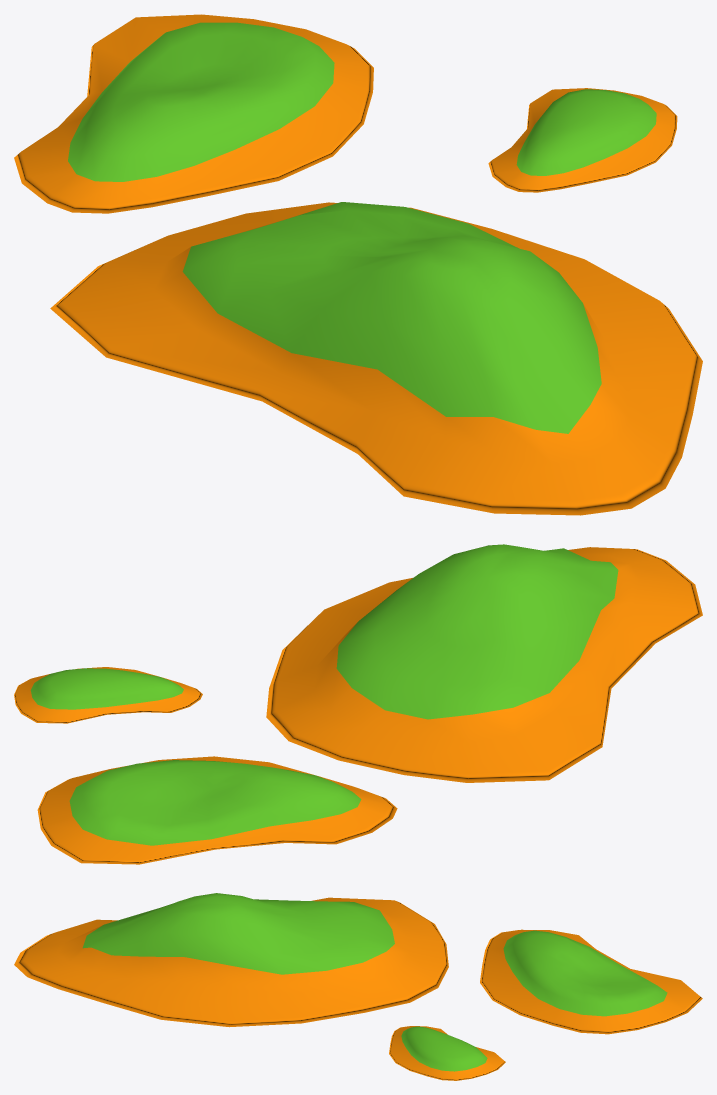
Rendered from Islas_Nope.fbx.
3 views of the same model, one above another, from view 1: azimuth 30°, elevation 25°; view 2: azimuth 150°, elevation 25°; view 3: azimuth 270°, elevation 25° (orthographic). The views are drawn at different scales.
Parts seen in each view (by area): view 1: pSphere2, pSphere3, pSphere4; view 2: pSphere2, pSphere3, pSphere4; view 3: pSphere2, pSphere3, pSphere4.
Boxes of the visible parts, x1=… form: pSphere2: x1=50, y1=202, x2=702, y2=515; pSphere3: x1=14, y1=14, x2=373, y2=213; pSphere4: x1=488, y1=88, x2=677, y2=192; pSphere2: x1=266, y1=544, x2=702, y2=782; pSphere3: x1=37, y1=756, x2=397, y2=864; pSphere4: x1=14, y1=667, x2=202, y2=723; pSphere2: x1=14, y1=893, x2=448, y2=1027; pSphere3: x1=480, y1=929, x2=702, y2=1034; pSphere4: x1=389, y1=1026, x2=505, y2=1080.
Bounding box in the file's own units: 8487 × 1402 × 13589.
